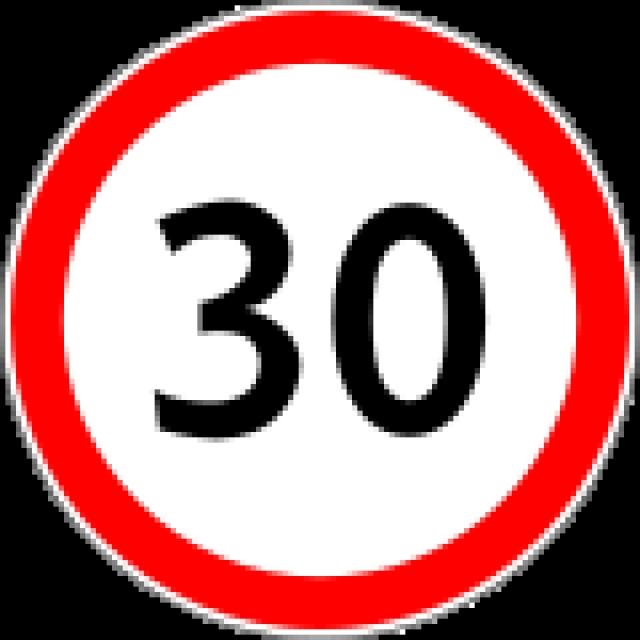Speed Limit -30-: (150, 182, 492, 450)
